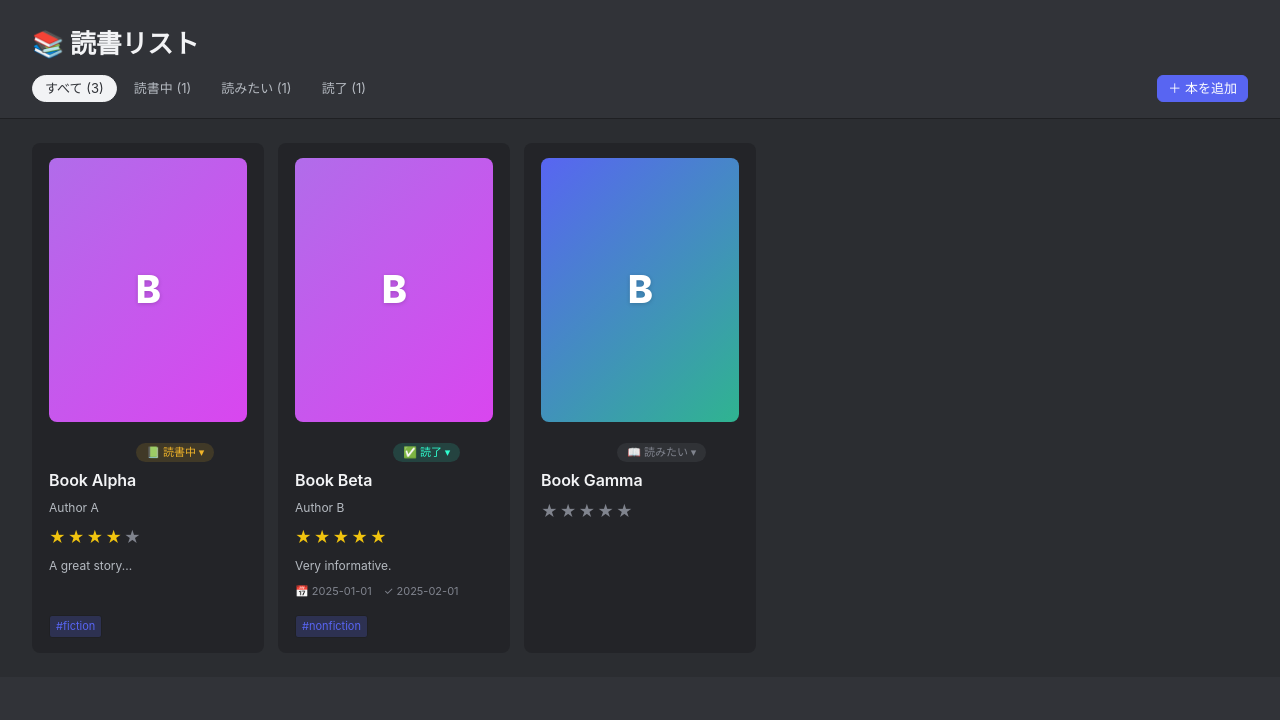
it: BooksView › opens the add book modal
This screenshot has width=1280, height=720.
Step 1. Click the button "＋ 本を追加" → (1203, 88), box [1157,75,1248,102]
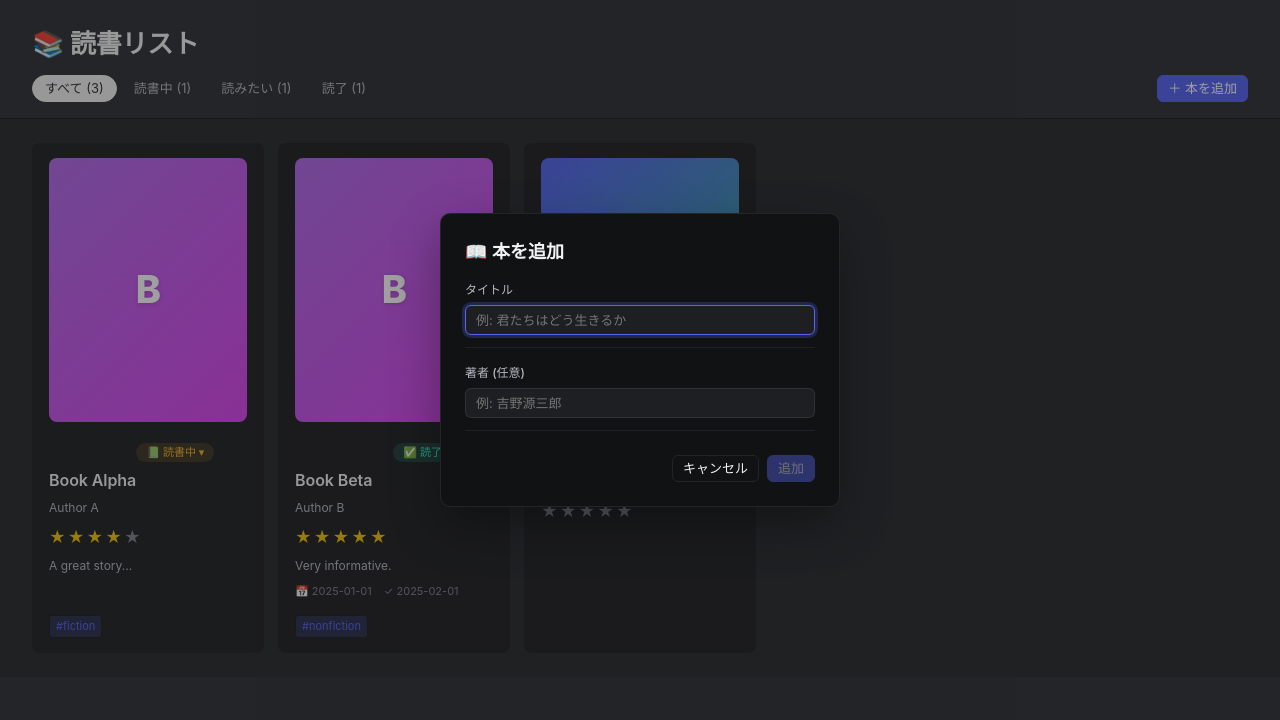
expect the field with placeholder "例: 君たちはどう生きるか" is shown: met, box [465,305,815,335]
expect the field with placeholder "例: 吉野源三郎" is shown: met, box [465,388,815,418]
